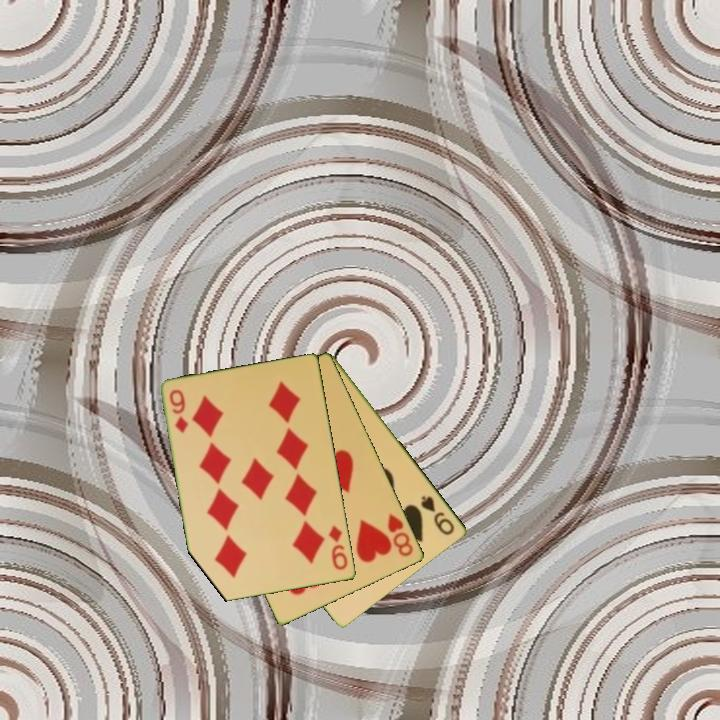8h: (384, 510, 416, 560)
9d: (325, 522, 351, 573), (166, 386, 191, 436)
9s: (417, 492, 458, 538)
